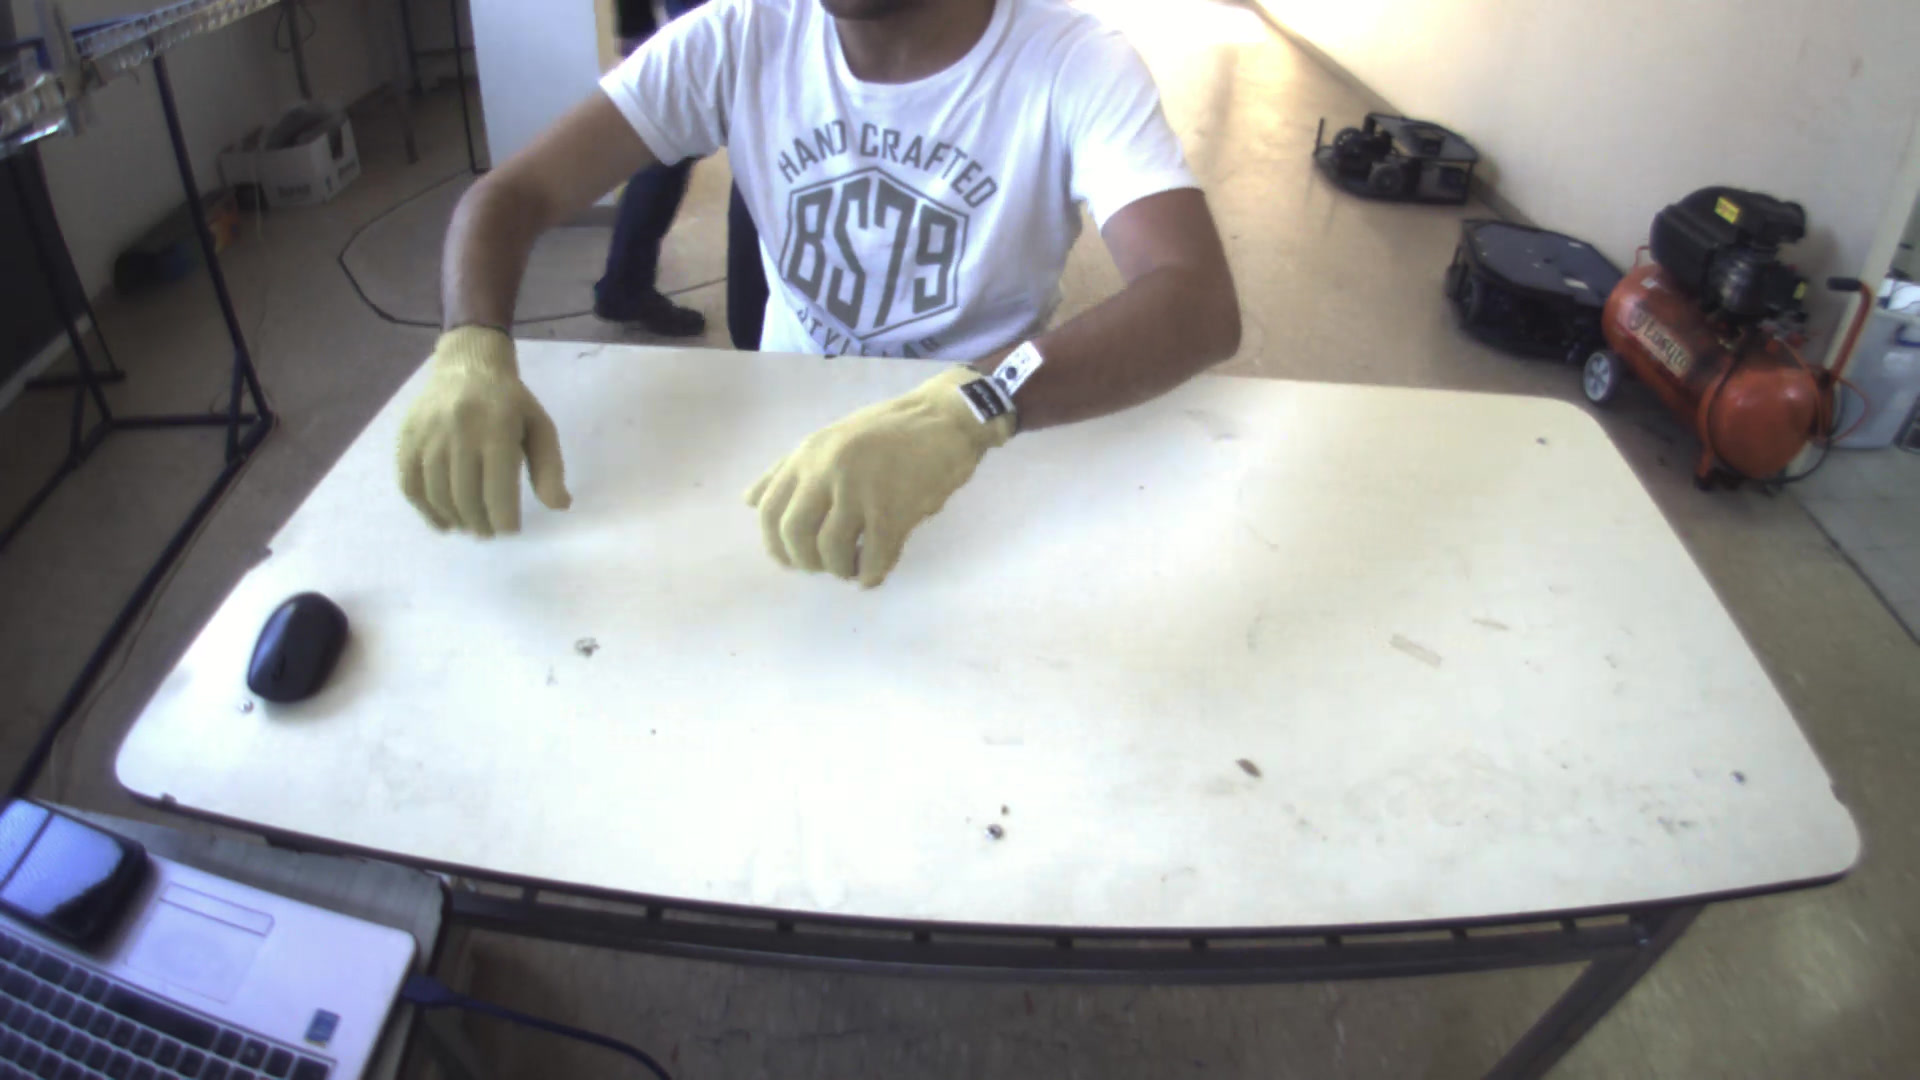hand: (728, 352, 1036, 591), (378, 309, 566, 542)
